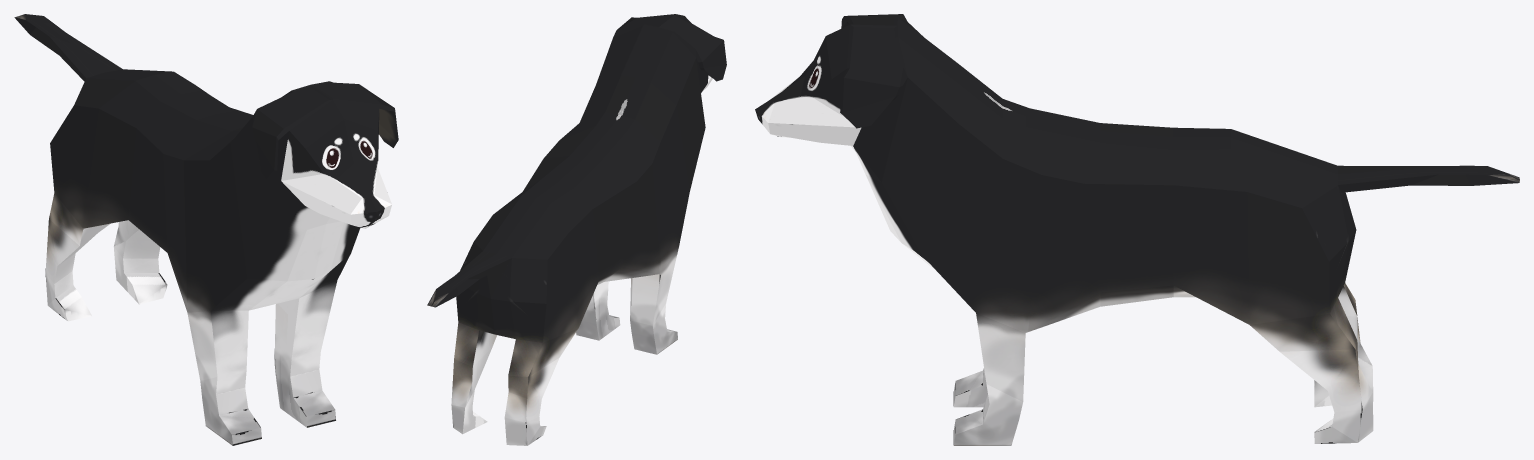
The model's file is Shiryu.glb.
3 views of the same model, side by side, from view 1: azimuth 30°, elevation 25°; view 2: azimuth 150°, elevation 25°; view 3: azimuth 270°, elevation 25° (orthographic). The views are drawn at different scales.
Visible parts, largest first — view 1: Body; view 2: Body; view 3: Body.
Part boxes in pixels (left/top/right/bottom): Body: left=14, top=14, right=398, bottom=445; Body: left=427, top=14, right=726, bottom=445; Body: left=755, top=14, right=1519, bottom=445.
Bounding box in the file's own units: 0.9017 × 2.5 × 4.39.
1 material, 1 textured.
